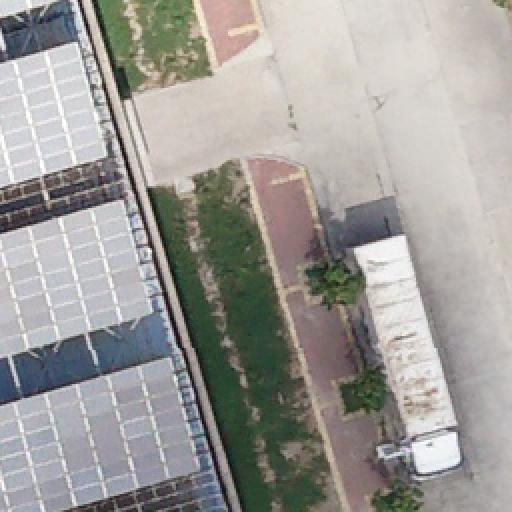solar-panel: (0, 356, 200, 512), (1, 198, 159, 358), (0, 41, 112, 191), (0, 0, 60, 16)
